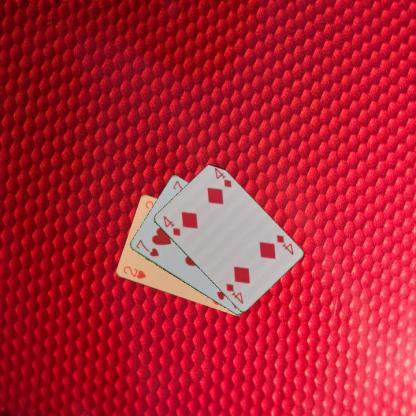2h: (121, 264, 147, 280)
4d: (273, 232, 295, 257), (160, 213, 181, 237)
7h: (133, 237, 160, 258)
